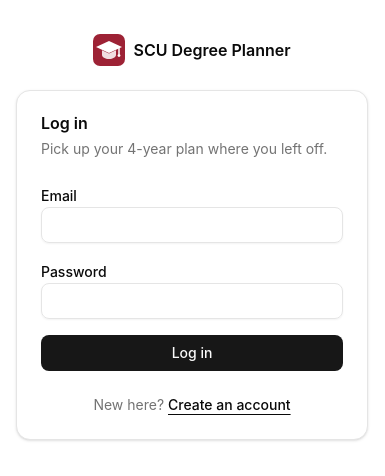
Test: accounts › shows the server's message for a wrong password and stays on the login page
The image size is (385, 476).
Expected: the heading "Log in" is shown, [41, 113, 88, 133]
In the field labelled "Email": (192, 225) [41, 207, 343, 243], type "ana@scu.edu"
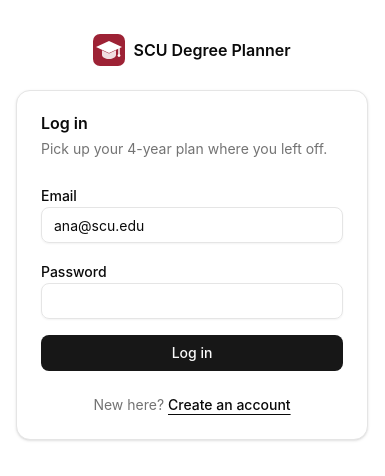
In the password field labelled "Password": (192, 301) [41, 283, 343, 319], type "wrong password"
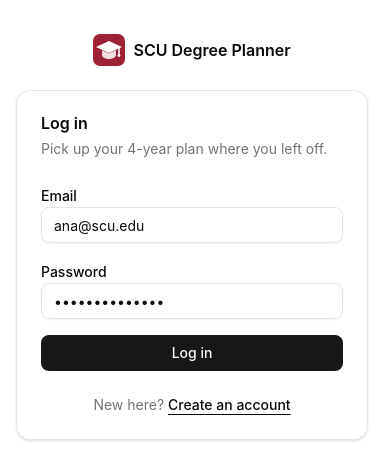
Click the button "Log in": (192, 353) [41, 335, 343, 371]
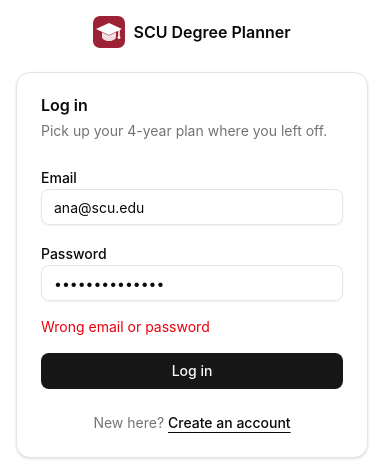
Expected: the heading "Log in" is shown, [41, 95, 88, 115]
Result: the text "Wrong email or password" is shown at [41, 318, 210, 335]
